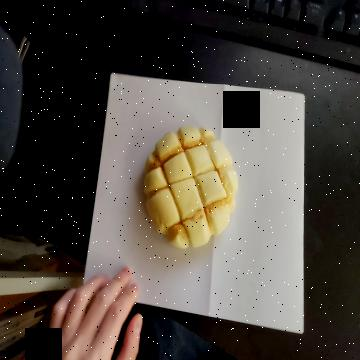melon_bread: (142, 125, 239, 252)
